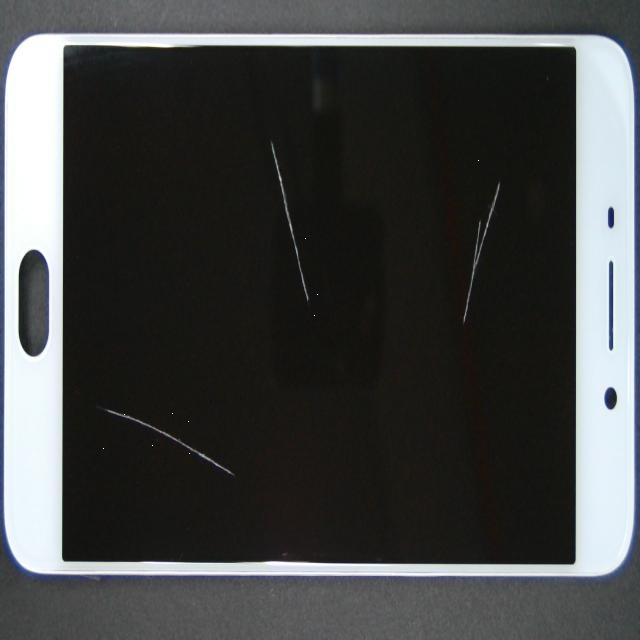scratch: (282, 22, 640, 294), (0, 182, 209, 640), (133, 59, 399, 229)
